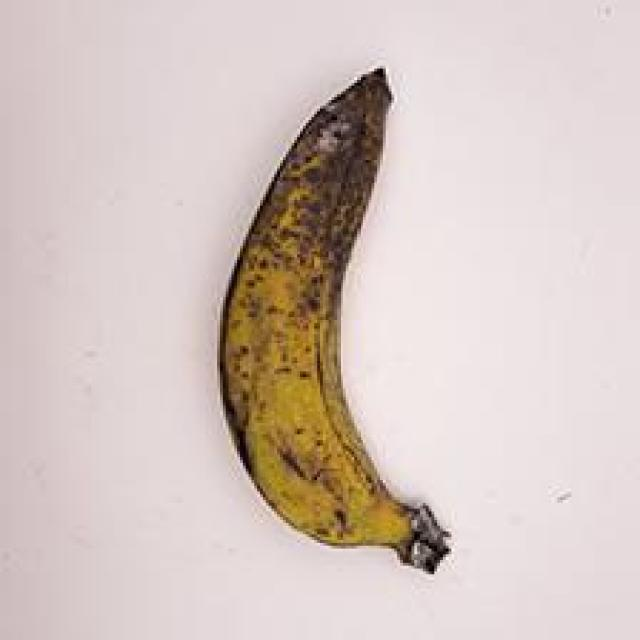Overripe: (179, 34, 497, 603)
